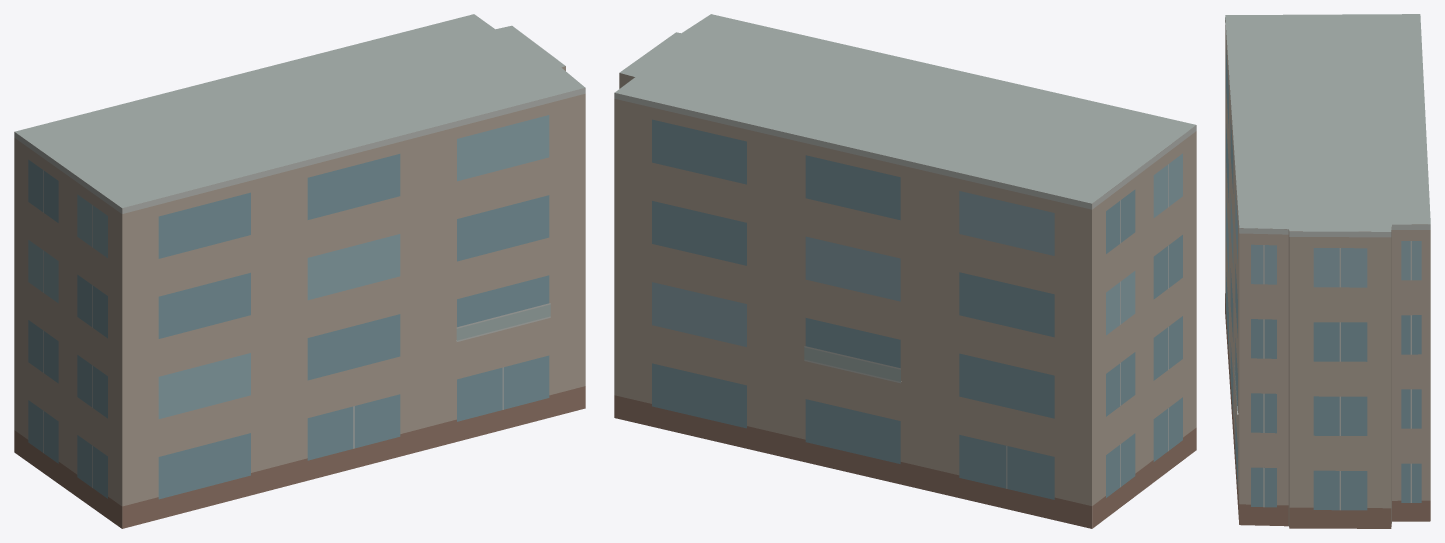
Rendered from survey-upis-32558284.glb.
The picture shows the model from 3 angles, left to right: view 1: azimuth 30°, elevation 25°; view 2: azimuth 150°, elevation 25°; view 3: azimuth 270°, elevation 25°; orthographic projection. The views are drawn at different scales.
Parts seen in each view (by area): view 1: survey-upis-32558284.tmp; view 2: survey-upis-32558284.tmp; view 3: survey-upis-32558284.tmp.
Part boxes in pixels (box(x1,y1,x2,y2)): survey-upis-32558284.tmp: box(14, 14, 585, 528); survey-upis-32558284.tmp: box(614, 14, 1196, 528); survey-upis-32558284.tmp: box(1225, 14, 1430, 528).
Size of the model in its own units: 20.86 by 13.25 by 8.33.
